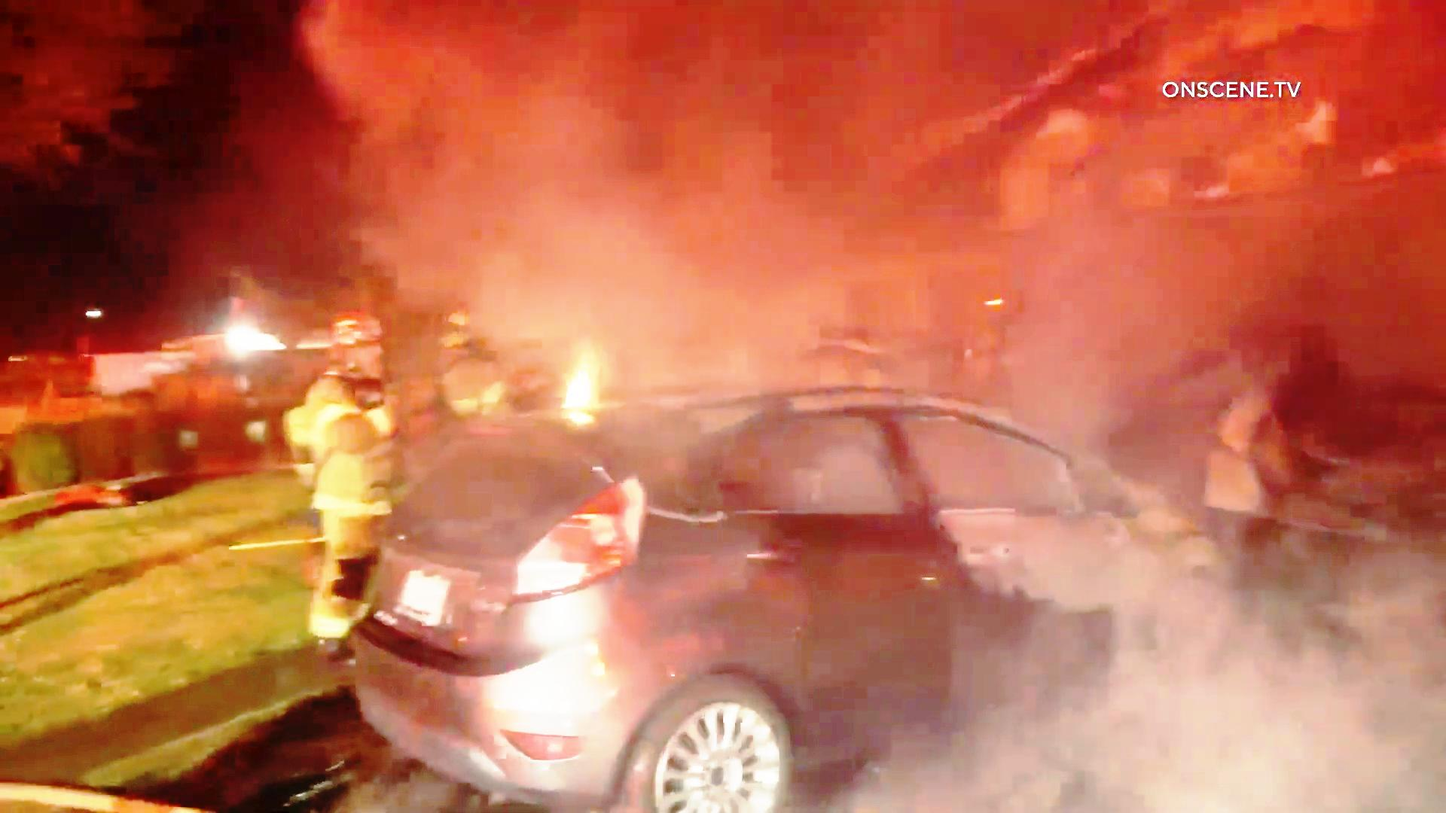smoke: (961, 518, 1446, 813), (381, 15, 989, 196)
